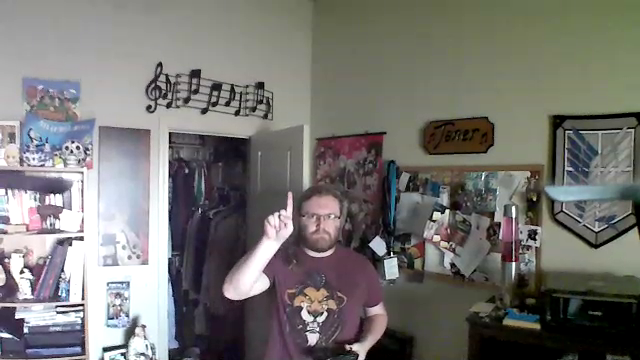up: (260, 185, 297, 244)
